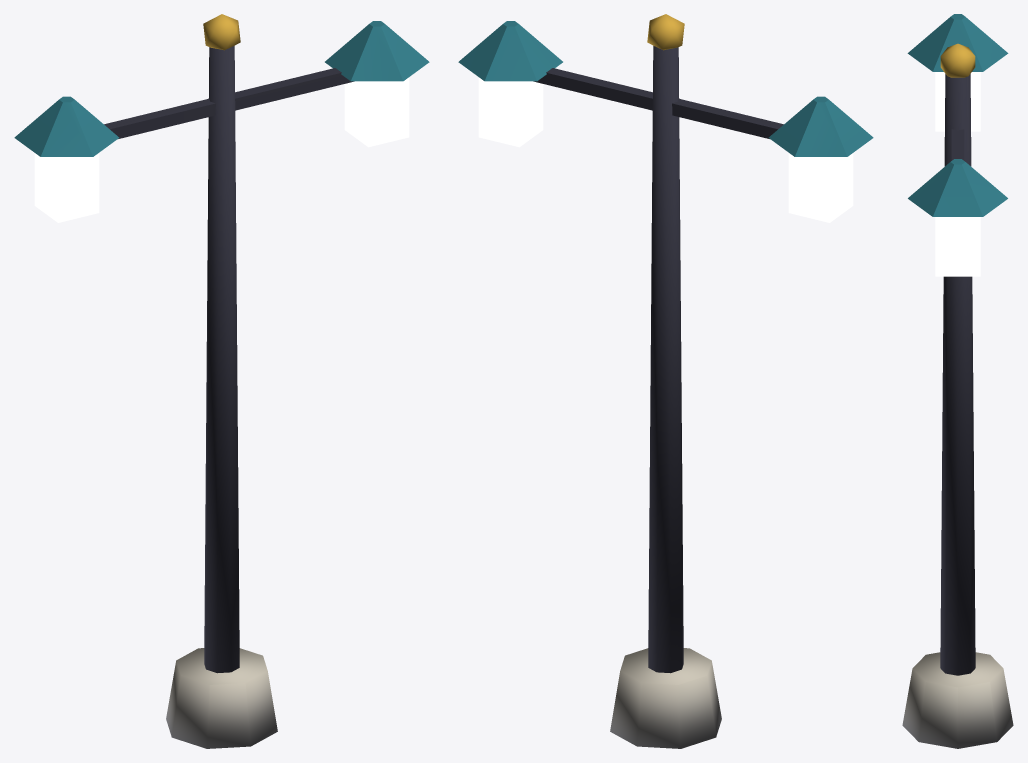
File: paper_lantern.glb
3 views of the same model, side by side, from view 1: azimuth 30°, elevation 25°; view 2: azimuth 150°, elevation 25°; view 3: azimuth 270°, elevation 25° (orthographic). The views are drawn at different scales.
Parts seen in each view (by area): view 1: Post, Glow; view 2: Post, Glow; view 3: Post, Glow.
Part boxes in pixels (<box>): Post: <box>14,14,429,748</box>; Glow: <box>34,77,409,222</box>; Post: <box>458,14,873,748</box>; Glow: <box>478,77,853,222</box>; Post: <box>902,14,1013,748</box>; Glow: <box>935,72,980,276</box>.
Size of the model in its own units: 1.71 by 2.98 by 0.44.
